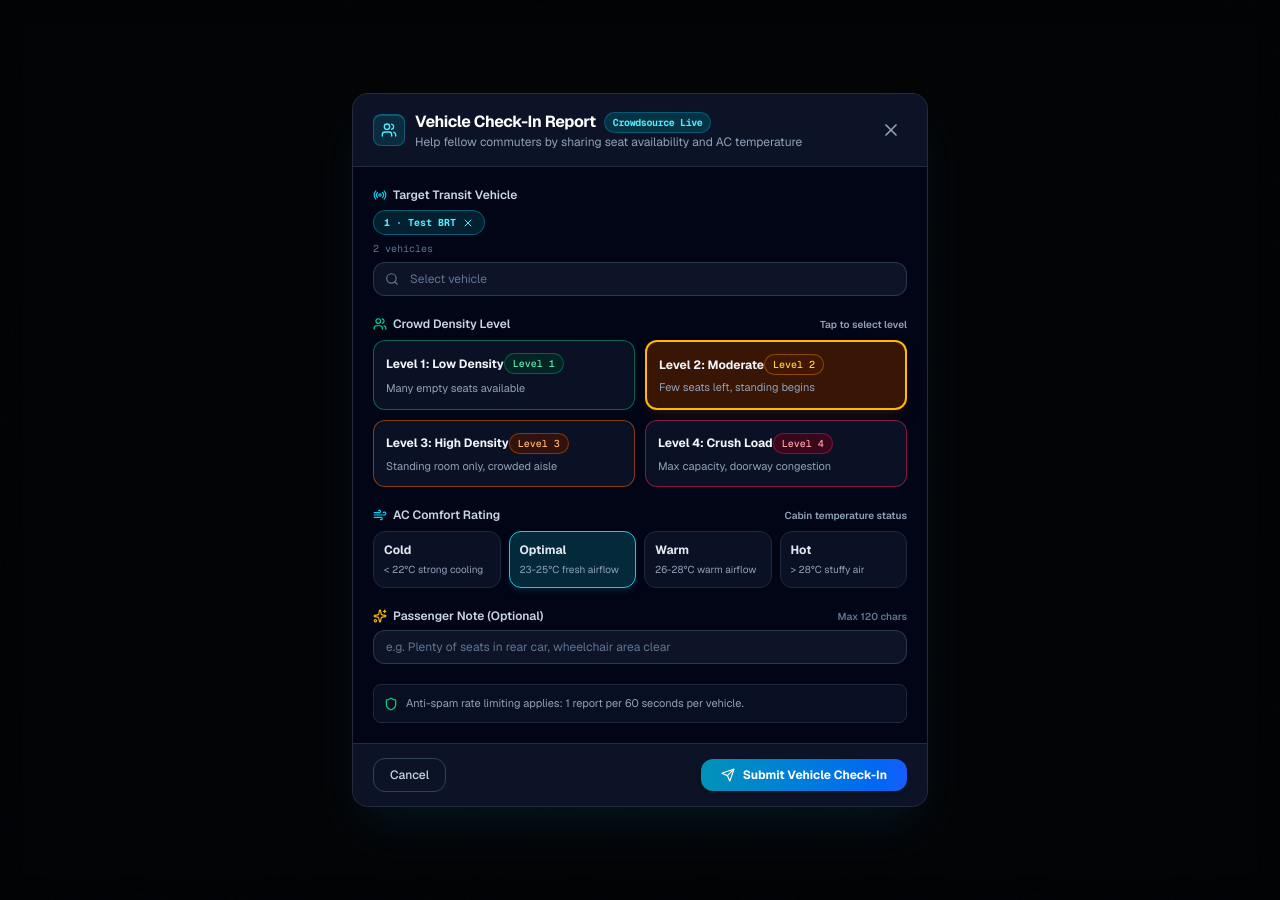
crowd vehicle combobox › supports ArrowDown + Enter keyboard selection
Expected: the dialog is shown, [352,93,928,807]
Focus the dropdown labelled "Target Transit Vehicle" at (640,279), box [373,262,907,296]
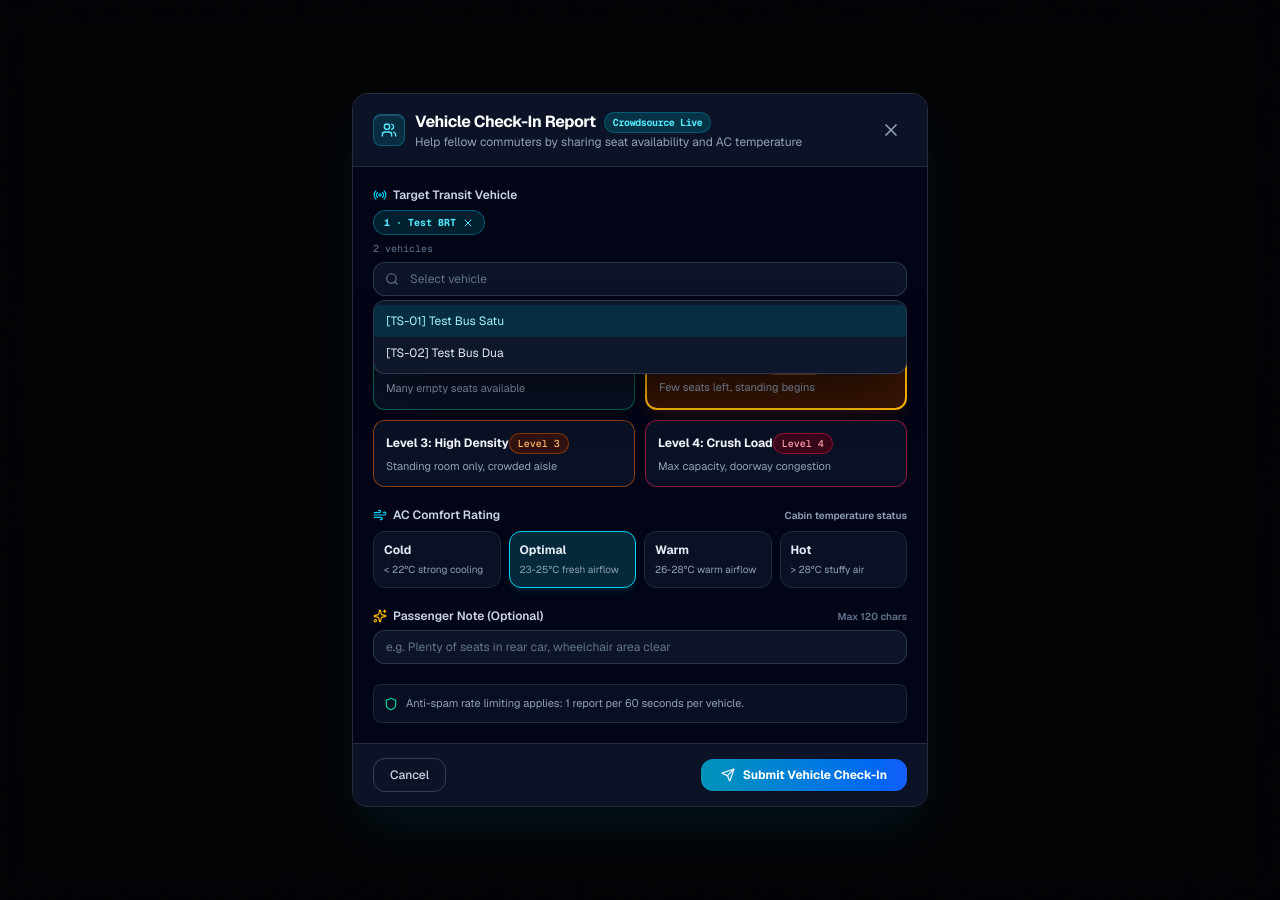
Press ArrowDown in the dropdown labelled "Target Transit Vehicle", box [373,262,907,296]
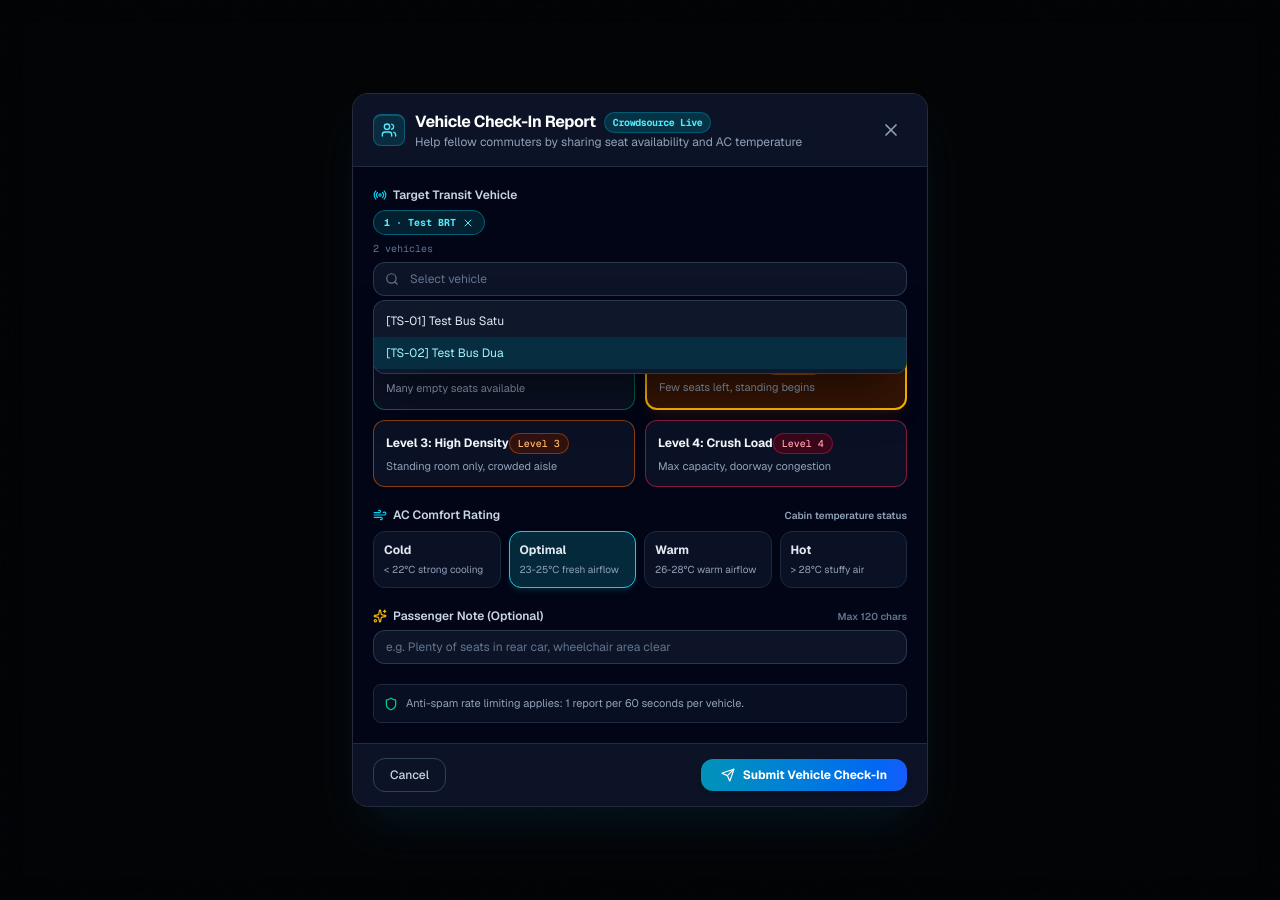
Press Enter in the dropdown labelled "Target Transit Vehicle", box [373,262,907,296]
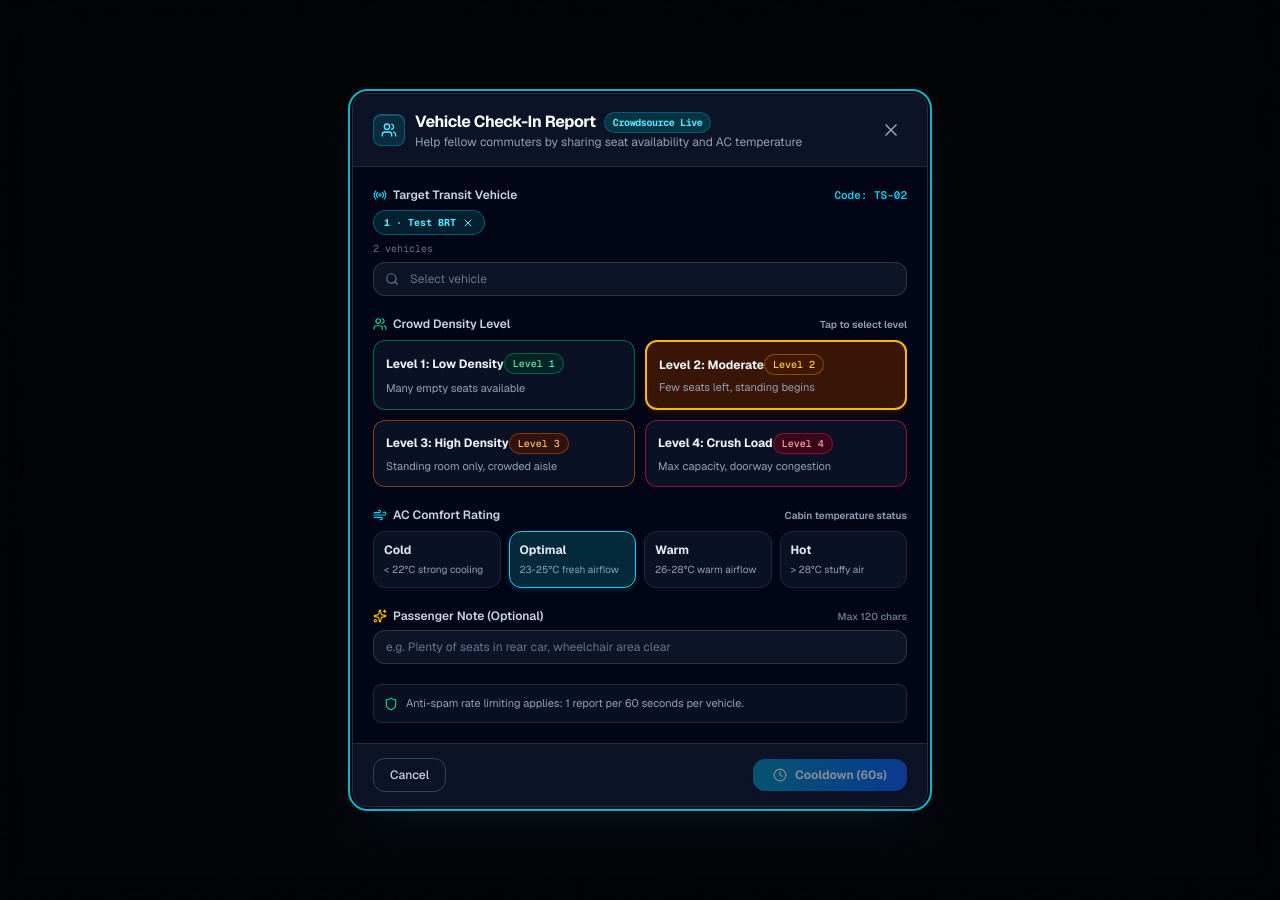
Expected: the list is gone
Expected: the text "Code: TS-02" is shown, [834,188,907,203]
